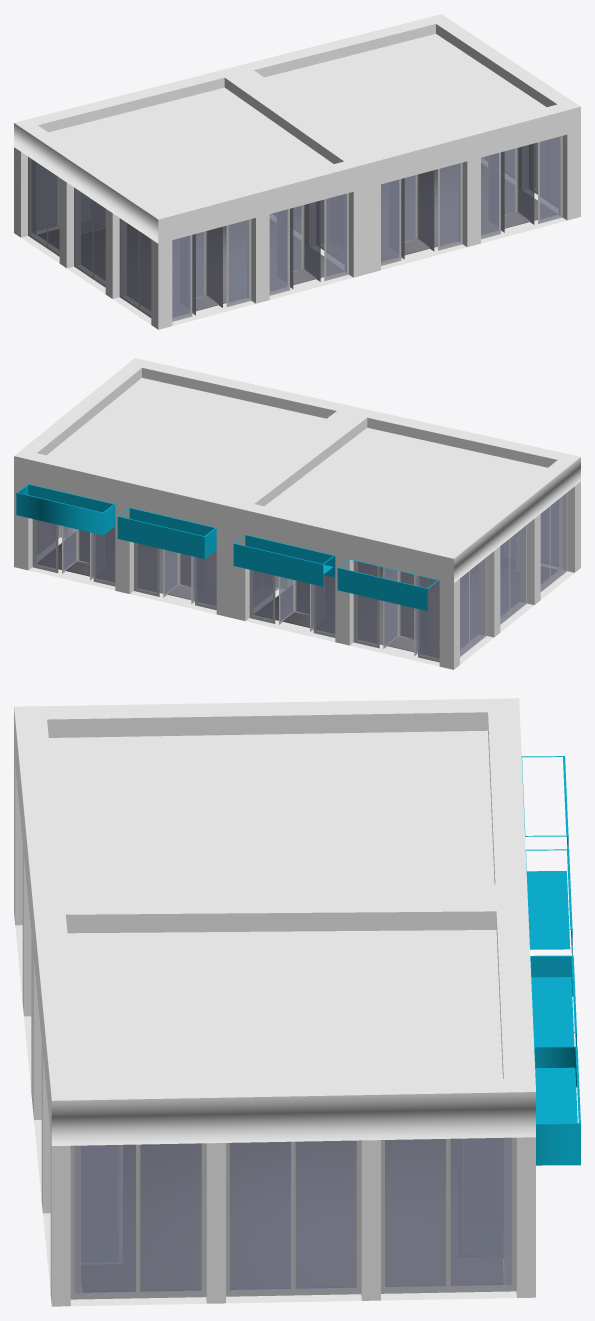
File: 1FloorHouse.dae
3 renders of one model, top to bottom at view 1: azimuth 30°, elevation 25°; view 2: azimuth 150°, elevation 25°; view 3: azimuth 270°, elevation 25°, orthographic. The views are drawn at different scales.
Visible parts, largest first — view 1: CityEngineMaterial_30_002; view 2: CityEngineMaterial_30_002; view 3: CityEngineMaterial_30_002.
Boxes of the visible parts, x1,y1,x2,y2 form: CityEngineMaterial_30_002: (14, 14, 580, 329); CityEngineMaterial_30_002: (14, 358, 580, 669); CityEngineMaterial_30_002: (14, 698, 580, 1306).
Size of the model in its own units: 20.98 by 12.49 by 5.
